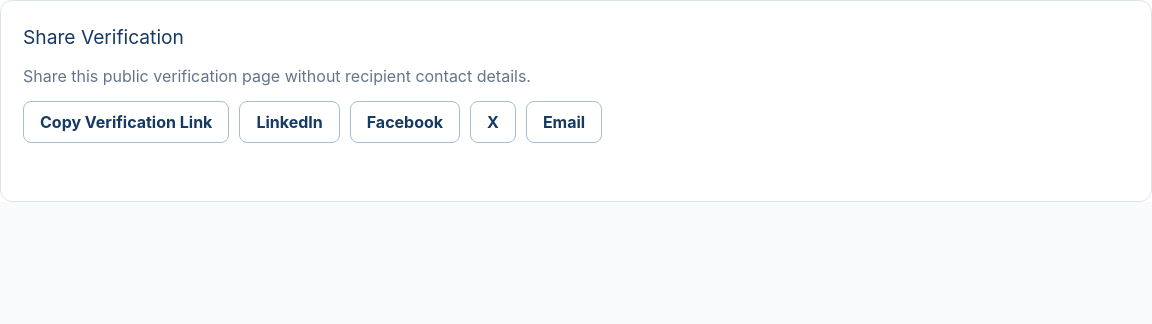
Test: ShareControls › announces a clipboard failure
Click the button "Copy Verification Link" at (126, 122), box [23,101,229,143]
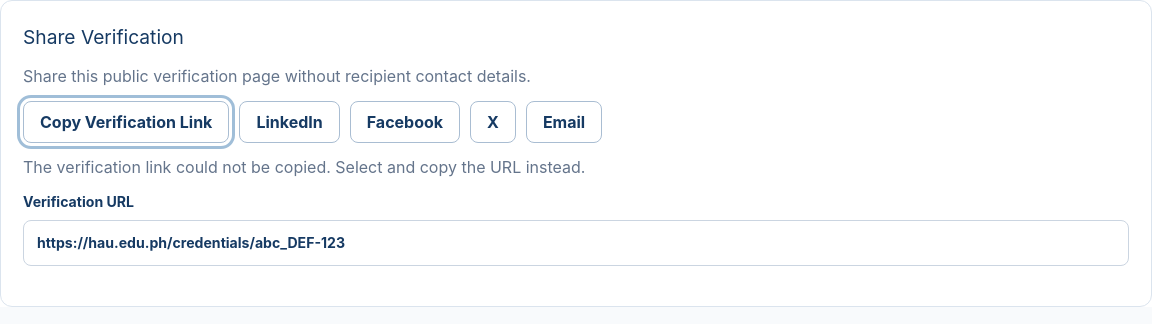
Now the message shows "could not be copied", box [23,157,585,177]
Now the field labelled "Verification URL" holds "https://hau.edu.ph/credentials/abc_DEF-123", box [23,220,1129,266]
